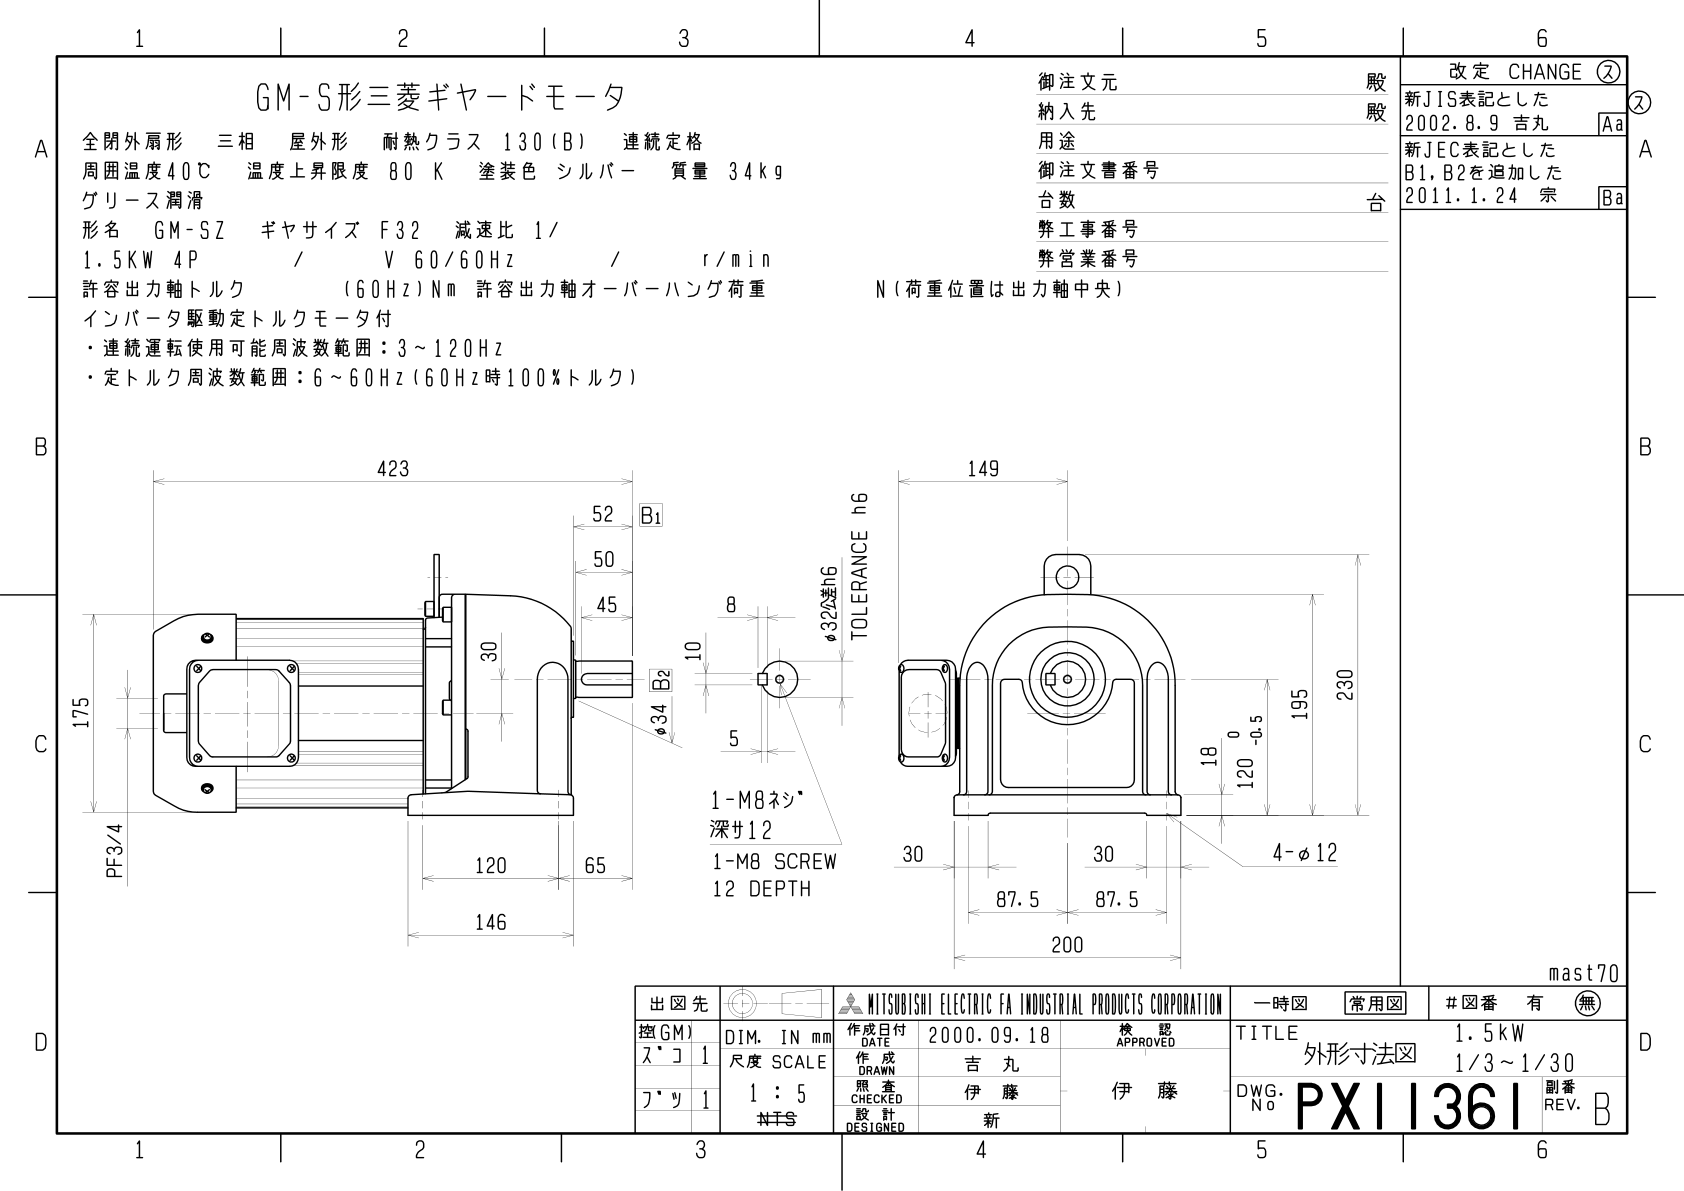GM_S_インバタ屋外＿三相_脚: (63, 403, 1389, 973)
